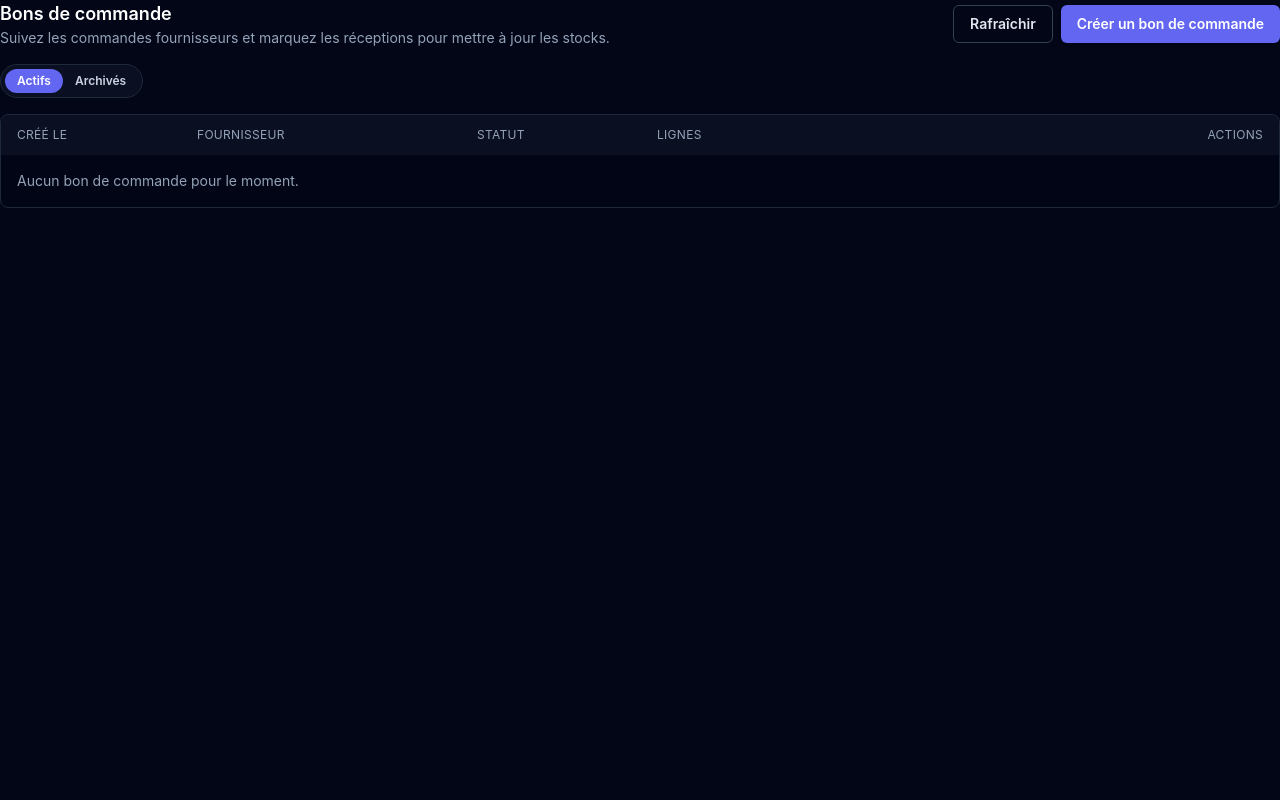
PurchaseOrdersPanel › opens the create modal without navigating to Not Found
Click the button "Créer un bon de commande".
click(1170, 24)  # box [1061,5,1279,43]
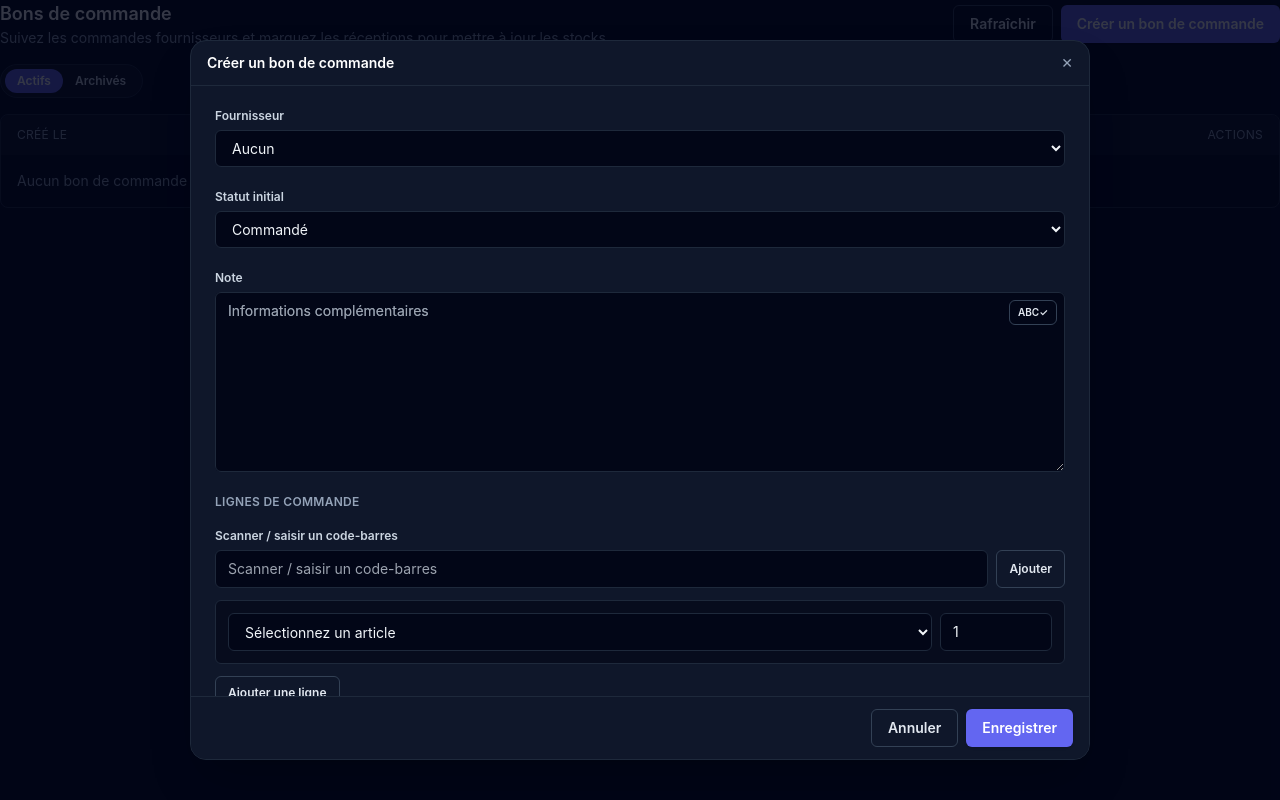
Result: the dropdown labelled "Fournisseur" is shown at [215,130,1065,167]
